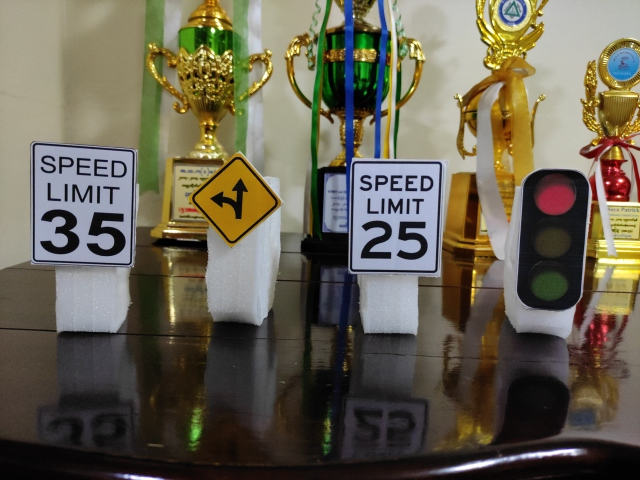Red Traffic Light: (518, 171, 590, 308)
Speed Limit 25: (349, 160, 442, 275)
Speed Limit 35: (29, 141, 137, 269)
Straight Or Left Sign: (191, 155, 283, 245)
